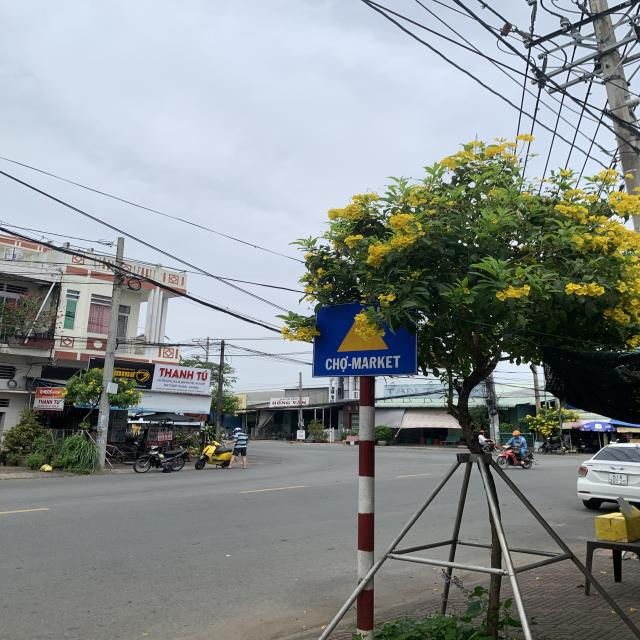Cho_Quay_Xe: (310, 301, 415, 377)
